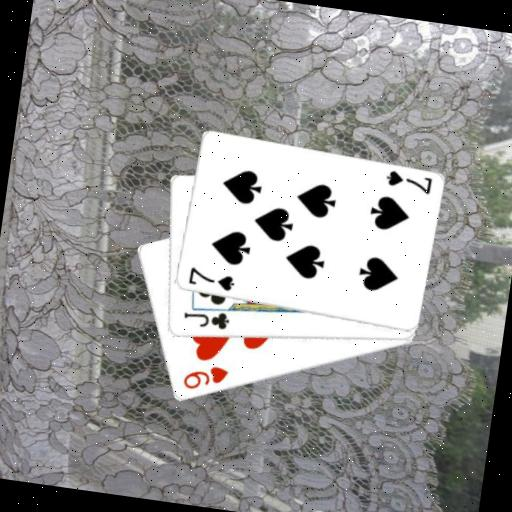7S: (184, 264, 237, 294), (381, 167, 434, 197)
9H: (179, 359, 231, 396)
JC: (179, 305, 232, 334)
